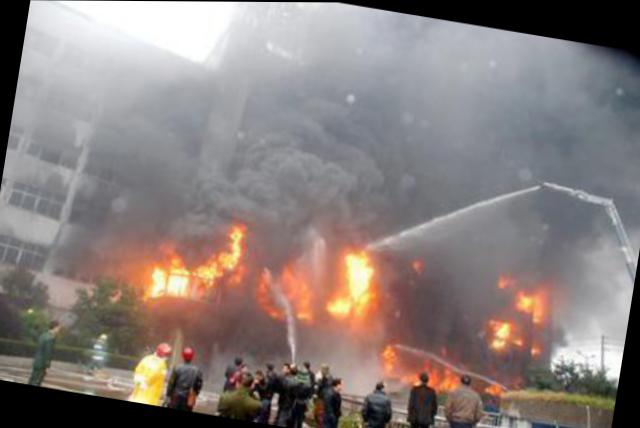fire: (326, 244, 383, 322), (147, 263, 191, 296), (288, 275, 316, 319), (376, 339, 401, 377), (516, 290, 544, 317), (484, 315, 508, 346), (196, 260, 221, 285), (438, 363, 460, 388), (224, 220, 242, 249), (216, 248, 236, 269), (166, 251, 182, 269)
